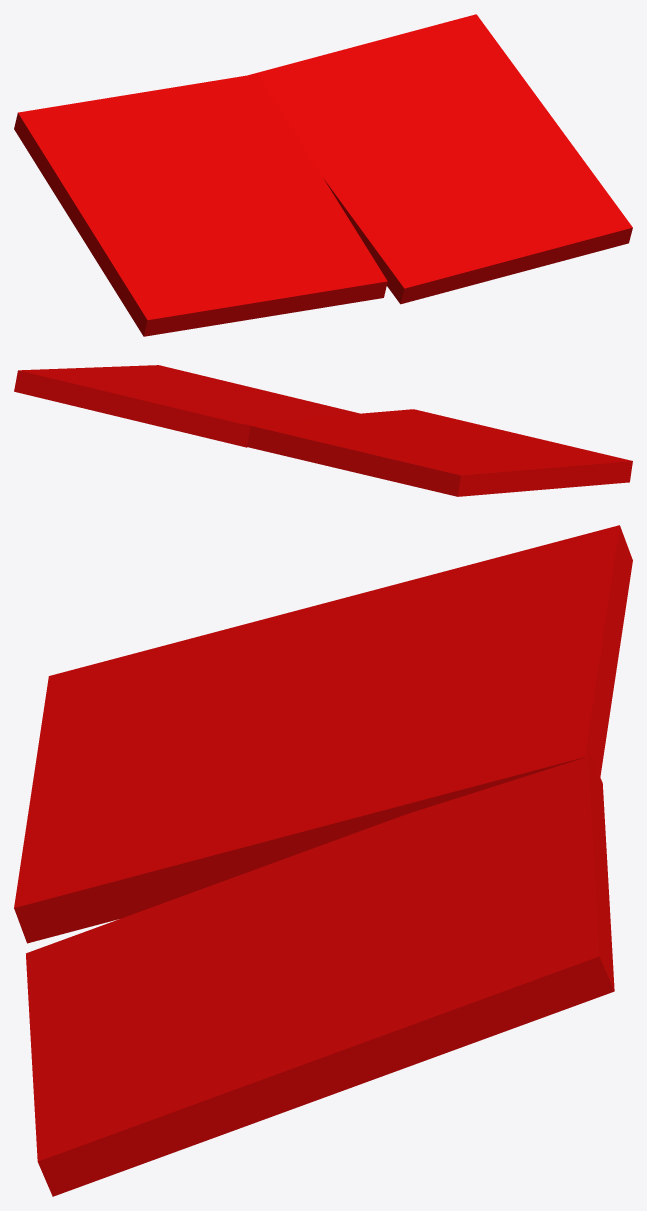
Rendered from SM_Prop_Dumpster_Lid_01_Collision.fbx.
3 views of the same model, one above another, from view 1: azimuth 30°, elevation 25°; view 2: azimuth 150°, elevation 25°; view 3: azimuth 270°, elevation 25° (orthographic). The views are drawn at different scales.
Visible parts, largest first — view 1: SM_Prop_Dumpster_Lid_01_Collision; view 2: SM_Prop_Dumpster_Lid_01_Collision; view 3: SM_Prop_Dumpster_Lid_01_Collision.
Part boxes in pixels (<box>): SM_Prop_Dumpster_Lid_01_Collision: <box>14,14,632,336</box>; SM_Prop_Dumpster_Lid_01_Collision: <box>14,365,632,496</box>; SM_Prop_Dumpster_Lid_01_Collision: <box>14,525,632,1196</box>.
Size of the model in its own units: 234 by 62.5 by 138.
